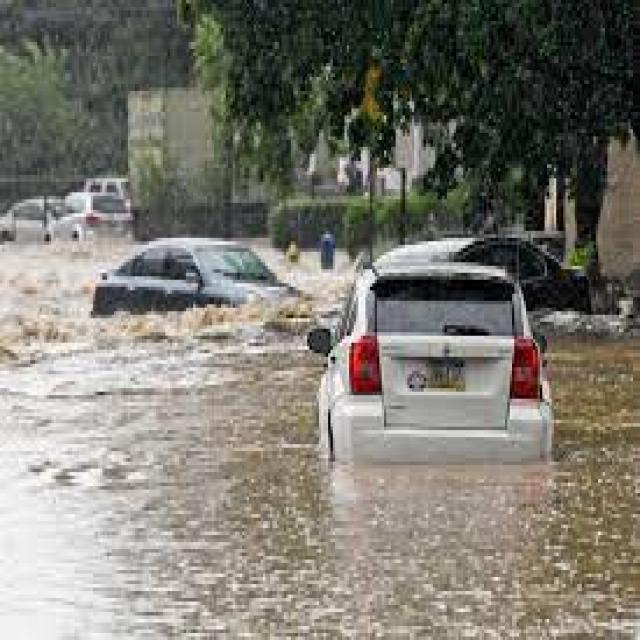Hurricane: (45, 214, 637, 639)
